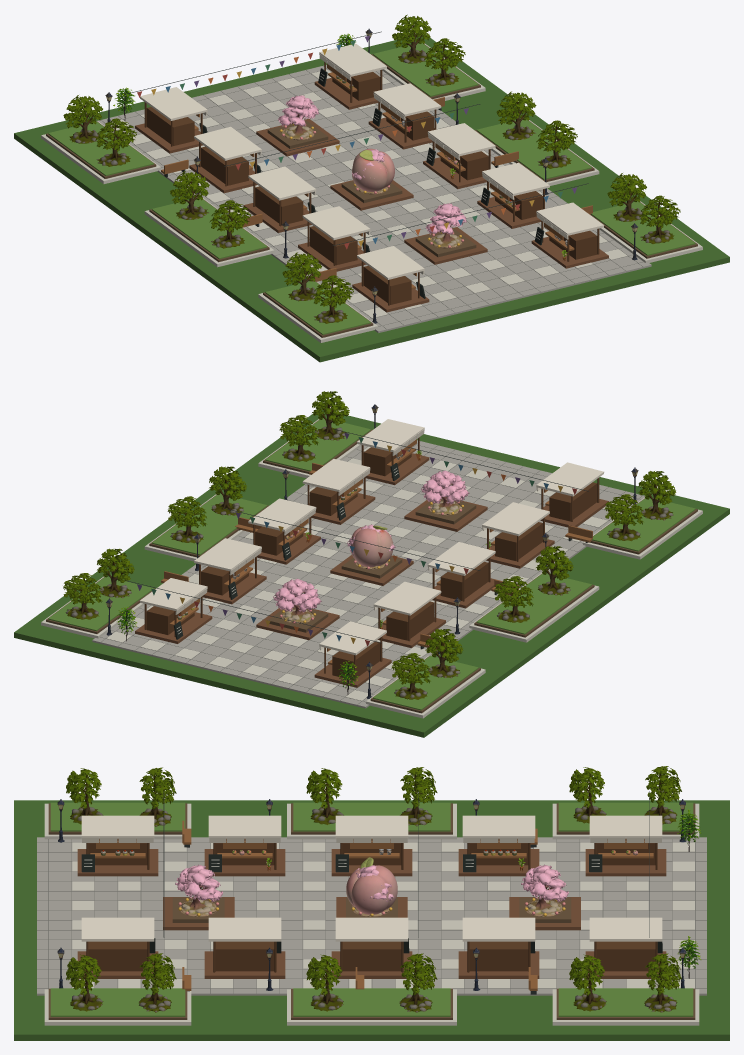
Rendered from club-street-festival-map-QabhqrTh.glb.
The picture shows the model from 3 angles, top to bottom: view 1: azimuth 30°, elevation 25°; view 2: azimuth 150°, elevation 25°; view 3: azimuth 270°, elevation 25°; orthographic projection. The views are drawn at different scales.
Visible parts, largest first — view 1: Central_Pedestrian_Plaza, Ground_Base, Garden_MW_Grass, Garden_ME_Grass, Garden_NE_Grass, Garden_SW_Grass, Garden_SE_Grass, Garden_NW_Grass, tripo_node_d3abdf28-b5f0-4bc0-b3ef-800630757f8a, ClubBooth_L3_CanvasRoof, ClubBooth_L2_CanvasRoof, ClubBooth_L4_CanvasRoof (+49 smaller); view 2: Central_Pedestrian_Plaza, Ground_Base, Garden_MW_Grass, Garden_ME_Grass, Garden_SW_Grass, Garden_NW_Grass, Garden_NE_Grass, Garden_SE_Grass, tripo_node_157c23fd-589c-4140-86e7-4bae7d886abe.002, tripo_node_157c23fd-589c-4140-86e7-4bae7d886abe.001, tripo_node_d3abdf28-b5f0-4bc0-b3ef-800630757f8a, ClubBooth_L2_CanvasRoof (+49 smaller); view 3: Central_Pedestrian_Plaza, Ground_Base, Garden_ME_Grass, Garden_SE_Grass, Garden_NE_Grass, Garden_MW_Grass, Garden_SW_Grass, Garden_NW_Grass, tripo_node_d3abdf28-b5f0-4bc0-b3ef-800630757f8a, ClubBooth_R3_Cabin, ClubBooth_R1_CanvasRoof, ClubBooth_R2_CanvasRoof (+61 smaller).
Boxes of the visible parts, x1,y1,x2,y2 form: Central_Pedestrian_Plaza: (96,65,651,332); Ground_Base: (14,35,729,362); Garden_MW_Grass: (152,199,267,259); Garden_ME_Grass: (476,119,591,179); Garden_NE_Grass: (373,43,478,96); Garden_SW_Grass: (265,281,370,334); Garden_SE_Grass: (591,201,695,255); Garden_NW_Grass: (48,121,153,175); tripo_node_d3abdf28-b5f0-4bc0-b3ef-800630757f8a: (352,148,394,191); ClubBooth_L3_CanvasRoof: (248,166,316,200); ClubBooth_L2_CanvasRoof: (194,126,261,160); ClubBooth_L4_CanvasRoof: (302,206,370,240); Central_Pedestrian_Plaza: (92,440,645,708); Ground_Base: (14,410,729,737); Garden_MW_Grass: (476,573,591,634); Garden_ME_Grass: (152,493,267,555); Garden_SW_Grass: (592,497,695,551); Garden_NW_Grass: (373,655,478,710); Garden_NE_Grass: (48,577,153,631); Garden_SE_Grass: (265,418,370,471); tripo_node_157c23fd-589c-4140-86e7-4bae7d886abe.002: (421,470,469,515); tripo_node_157c23fd-589c-4140-86e7-4bae7d886abe.001: (273,578,321,623); tripo_node_d3abdf28-b5f0-4bc0-b3ef-800630757f8a: (350,525,392,567); ClubBooth_L2_CanvasRoof: (373,581,441,615); Central_Pedestrian_Plaza: (37,837,706,995); Ground_Base: (14,800,729,1040); Garden_ME_Grass: (293,988,450,1016); Garden_SE_Grass: (50,988,185,1016); Garden_NE_Grass: (558,988,693,1016); Garden_MW_Grass: (293,802,450,831); Garden_SW_Grass: (50,802,185,831); Garden_NW_Grass: (558,802,693,831); tripo_node_d3abdf28-b5f0-4bc0-b3ef-800630757f8a: (346,857,397,914); ClubBooth_R3_Cabin: (342,941,401,971); ClubBooth_R1_CanvasRoof: (589,917,662,941); ClubBooth_R2_CanvasRoof: (462,917,535,941).
Size of the model in its own units: 48 by 5.92 by 62.
30 materials, 9 textured.
